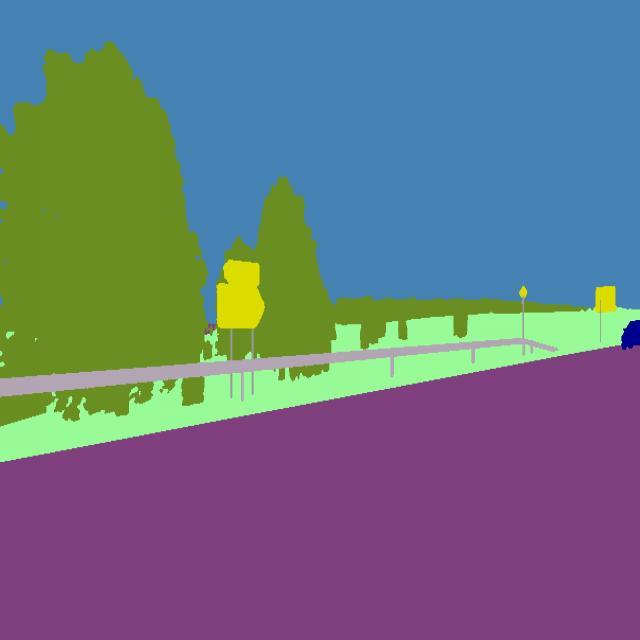safe: (614, 296, 640, 360)
